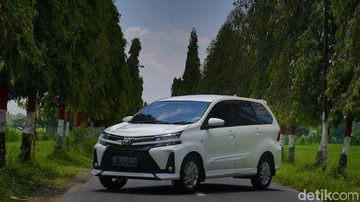mobil: (94, 97, 289, 190)
